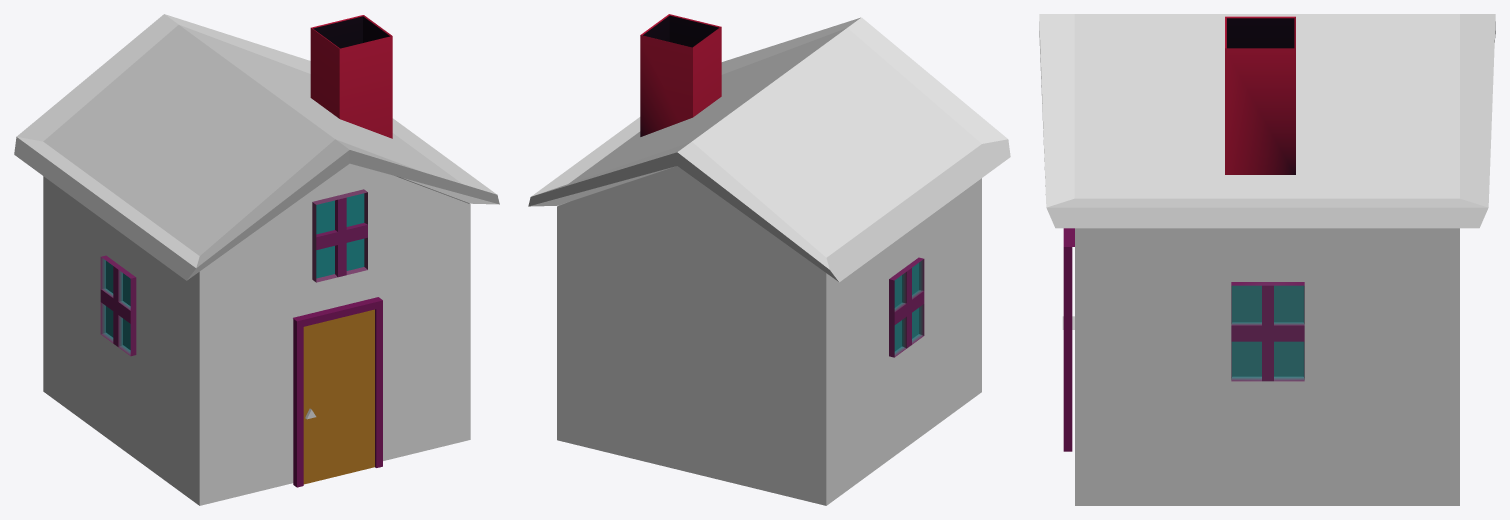
File: casaAzul.fbx
3 renders of one model, left to right at view 1: azimuth 30°, elevation 25°; view 2: azimuth 150°, elevation 25°; view 3: azimuth 270°, elevation 25°, orthographic. The views are drawn at different scales.
Visible parts, largest first — view 1: HouseStructure, HouseCeiling, FrontDoor, HouseChimney, FrontWindow, LeftWindow; view 2: HouseStructure, HouseCeiling, HouseChimney, LeftWindow; view 3: HouseStructure, HouseCeiling, HouseChimney, RightWindow, FrontDoor.
Boxes of the visible parts, x1,y1,x2,y2 form: HouseStructure: (43,163,470,505); HouseCeiling: (14,14,499,280); FrontDoor: (293,297,382,487); HouseChimney: (310,15,392,138); FrontWindow: (312,189,367,282); LeftWindow: (100,255,136,356); HouseStructure: (557,166,981,505); HouseCeiling: (528,17,1010,282); HouseChimney: (640,14,721,136); LeftWindow: (889,257,924,357); HouseStructure: (1075,228,1459,505); HouseCeiling: (1039,14,1495,228); HouseChimney: (1225,16,1295,174); RightWindow: (1231,282,1304,381); FrontDoor: (1063,228,1074,451).
Bounding box in the file's own units: 325 × 361 × 333.
